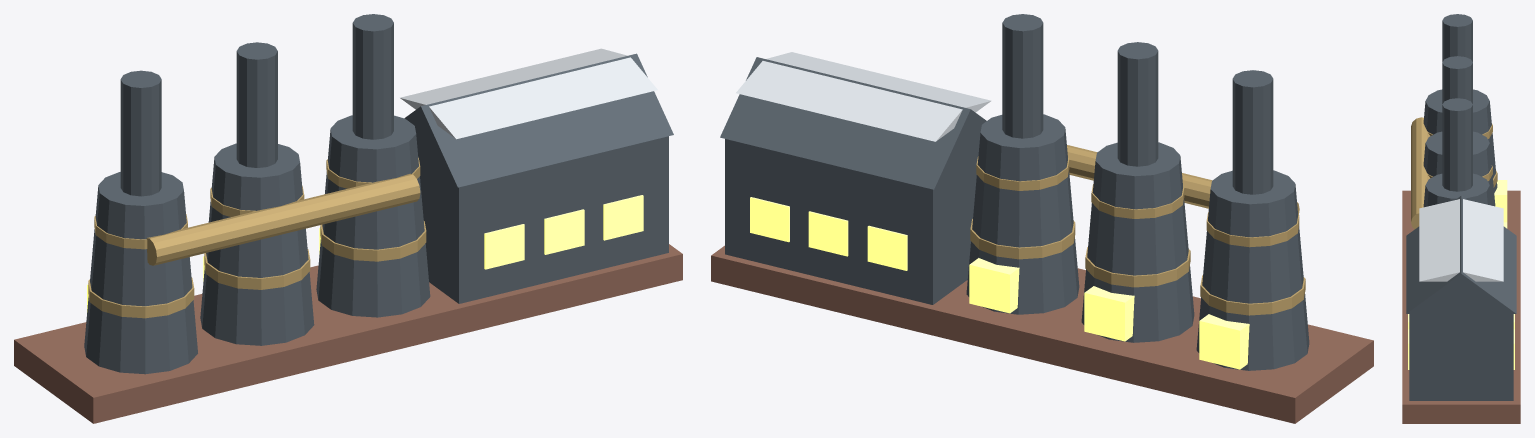
Rendered from advanced_steelworks.glb.
3 renders of one model, left to right at view 1: azimuth 30°, elevation 25°; view 2: azimuth 150°, elevation 25°; view 3: azimuth 270°, elevation 25°, orthographic. The views are drawn at different scales.
Visible parts, largest first — view 1: AdvancedSteelworks; view 2: AdvancedSteelworks; view 3: AdvancedSteelworks.
Boxes of the visible parts, x1,y1,x2,y2 form: AdvancedSteelworks: (14,14,682,423); AdvancedSteelworks: (711,14,1373,423); AdvancedSteelworks: (1402,14,1520,423).
Size of the model in its own units: 6.6 by 3.17 by 1.54.
